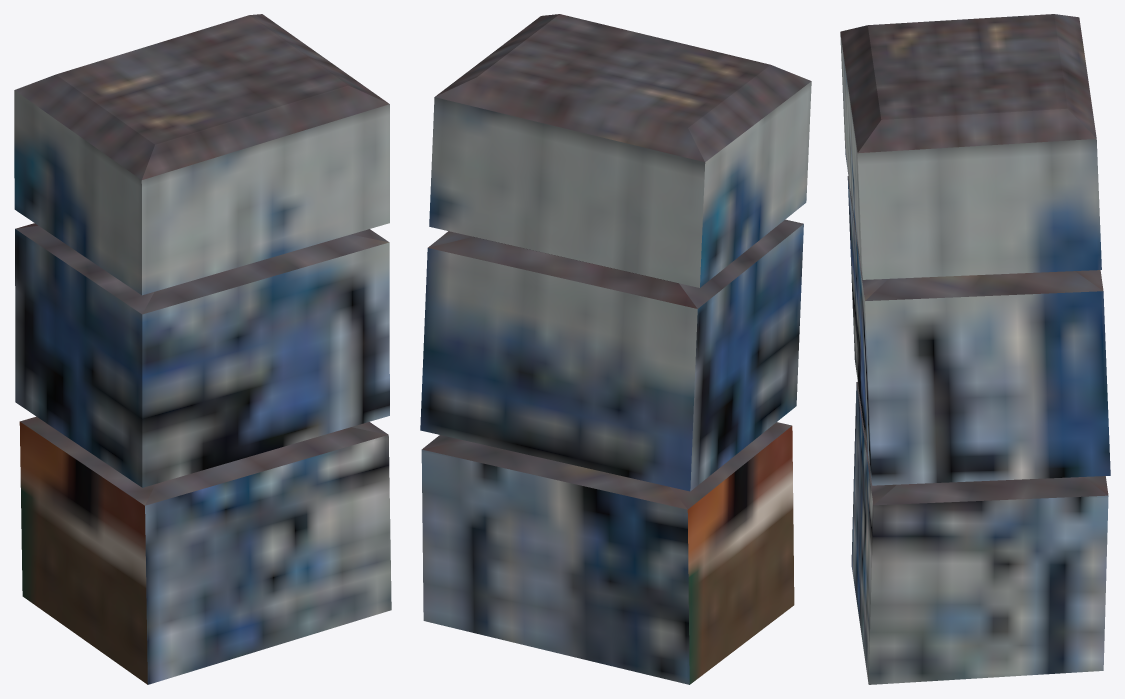
Rendered from Barracks10.fbx.
3 views of the same model, side by side, from view 1: azimuth 30°, elevation 25°; view 2: azimuth 150°, elevation 25°; view 3: azimuth 270°, elevation 25° (orthographic). The views are drawn at different scales.
Visible parts, largest first — view 1: Cube_010.010; view 2: Cube_010.010; view 3: Cube_010.010.
Part boxes in pixels (bbox=[...]): Cube_010.010: bbox=[14, 14, 391, 684]; Cube_010.010: bbox=[420, 14, 811, 684]; Cube_010.010: bbox=[840, 14, 1110, 684].
Size of the model in its own units: 25.9 by 48.83 by 21.36.
